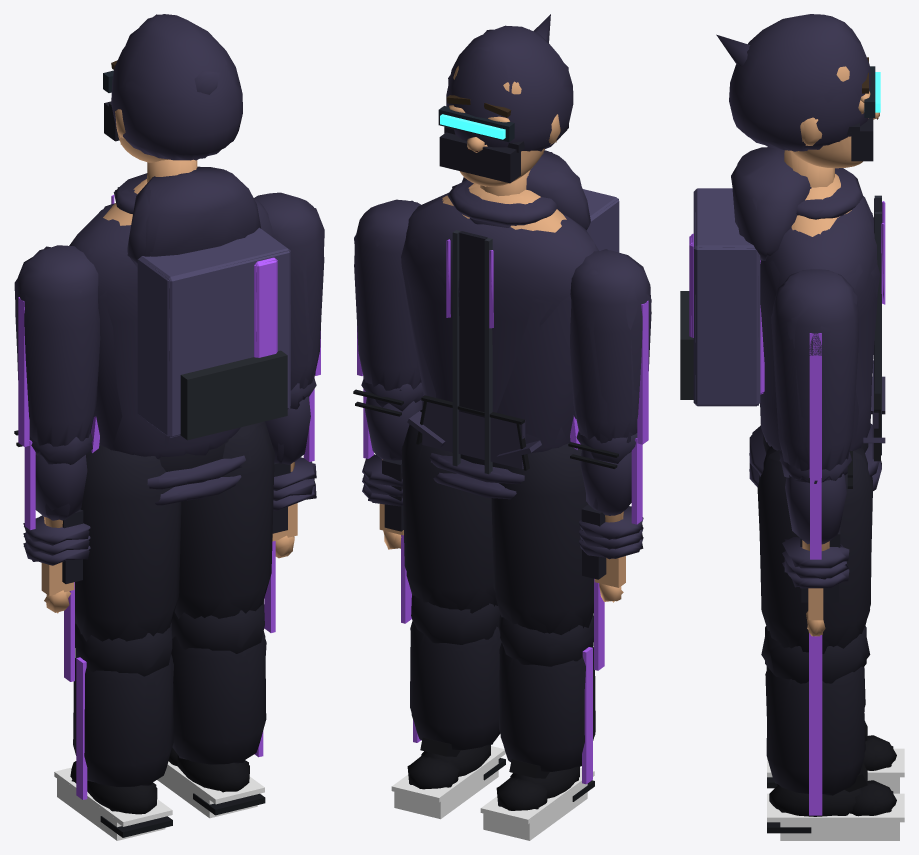
Rendered from char_shadow.glb.
3 renders of one model, left to right at view 1: azimuth 30°, elevation 25°; view 2: azimuth 150°, elevation 25°; view 3: azimuth 270°, elevation 25°, orthographic. The views are drawn at different scales.
Parts seen in each view (by area): view 1: lod_low, torso_d_4a4468, leg_L_pant, head_hood, arm_L_sleeve, leg_R_pant, torso_jacket, shin_R_pant, shin_L_pant, torso_hoodback, arm_R_sleeve, shin_R_d_pants (+22 smaller); view 2: lod_low, torso_jacket, leg_L_pant, arm_L_sleeve, leg_R_pant, head_hood, arm_R_sleeve, shin_R_pant, shin_L_pant, torso_d_1d1c28, torso_d_top, torso_d_2c2f3a (+28 smaller); view 3: lod_low, head_hood, torso_d_4a4468, arm_R_sleeve, leg_R_pant, torso_jacket, shin_R_pant, torso_hoodback, forearm_R_sleeve, shin_R_d_pants, shin_R_d_111116, arm_R_d_top2 (+18 smaller).
Part boxes in pixels (<box>): lod_low: <box>14,14,324,840</box>; torso_d_4a4468: <box>137,227,290,438</box>; leg_L_pant: <box>75,445,181,640</box>; head_hood: <box>111,14,242,160</box>; arm_L_sleeve: <box>15,245,100,455</box>; leg_R_pant: <box>179,421,274,617</box>; torso_jacket: <box>69,198,272,458</box>; shin_R_pant: <box>172,631,266,764</box>; shin_L_pant: <box>73,654,173,787</box>; torso_hoodback: <box>127,166,260,267</box>; arm_R_sleeve: <box>254,192,324,399</box>; shin_R_d_pants: <box>171,600,264,653</box>; lod_low: <box>354,14,651,840</box>; torso_jacket: <box>404,192,598,453</box>; leg_L_pant: <box>491,443,593,633</box>; arm_L_sleeve: <box>570,250,651,452</box>; leg_R_pant: <box>401,410,496,610</box>; head_hood: <box>446,25,573,151</box>; arm_R_sleeve: <box>354,199,421,390</box>; shin_R_pant: <box>410,620,501,750</box>; shin_L_pant: <box>499,642,595,771</box>; torso_d_1d1c28: <box>459,231,487,417</box>; torso_d_top: <box>407,400,541,469</box>; torso_d_2c2f3a: <box>452,230,492,474</box>; lod_low: <box>680,21,899,840</box>; head_hood: <box>729,14,871,151</box>; torso_d_4a4468: <box>693,188,760,406</box>; arm_R_sleeve: <box>772,269,858,483</box>; leg_R_pant: <box>758,448,872,648</box>; torso_jacket: <box>760,196,877,450</box>; shin_R_pant: <box>766,666,864,793</box>; torso_hoodback: <box>732,147,810,260</box>; forearm_R_sleeve: <box>785,474,846,544</box>; shin_R_d_pants: <box>765,626,866,683</box>; shin_R_d_111116: <box>769,764,896,816</box>; arm_R_d_top2: <box>809,333,821,477</box>.
Bounding box in the file's own units: 0.7726 × 1.96 × 0.505.
